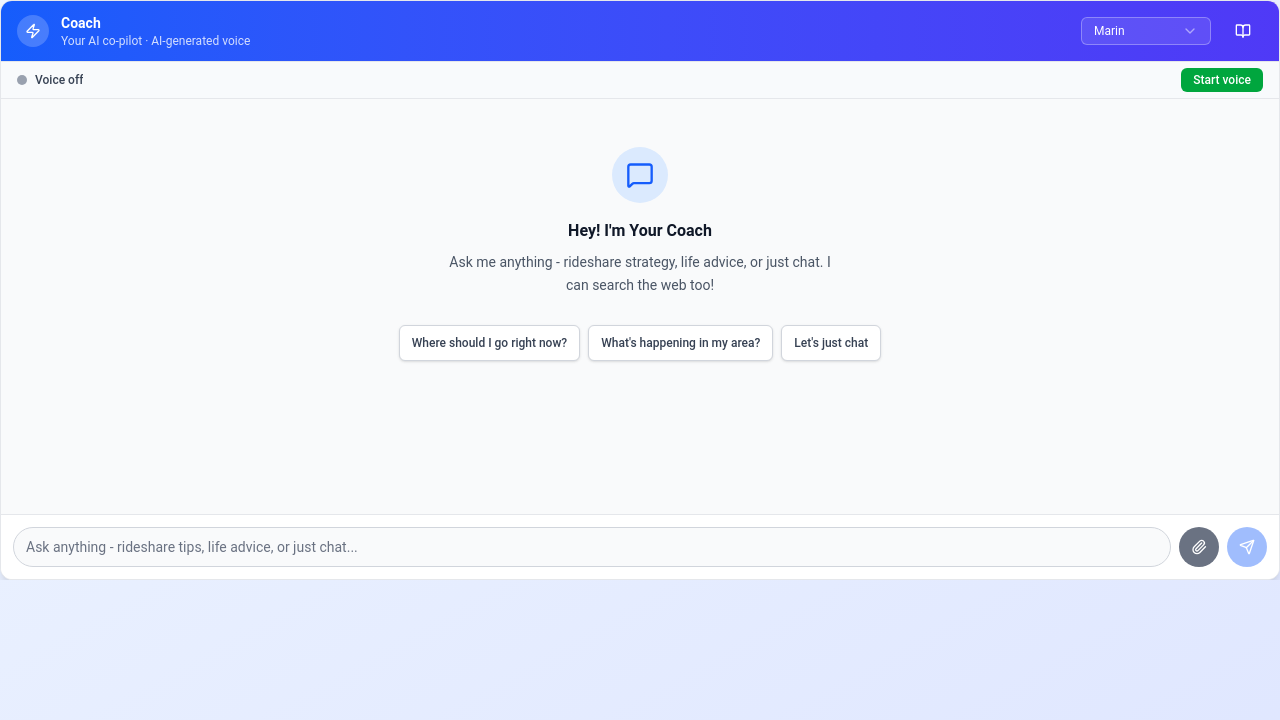
mounted Coach canonical input and confirmed output › typed settings wait for completion and notify once even when the final event repeats
This screenshot has width=1280, height=720.
In the field with test id "input-chat-message": (592, 547) [13, 527, 1171, 567], type "Raise my minimum score to 70"
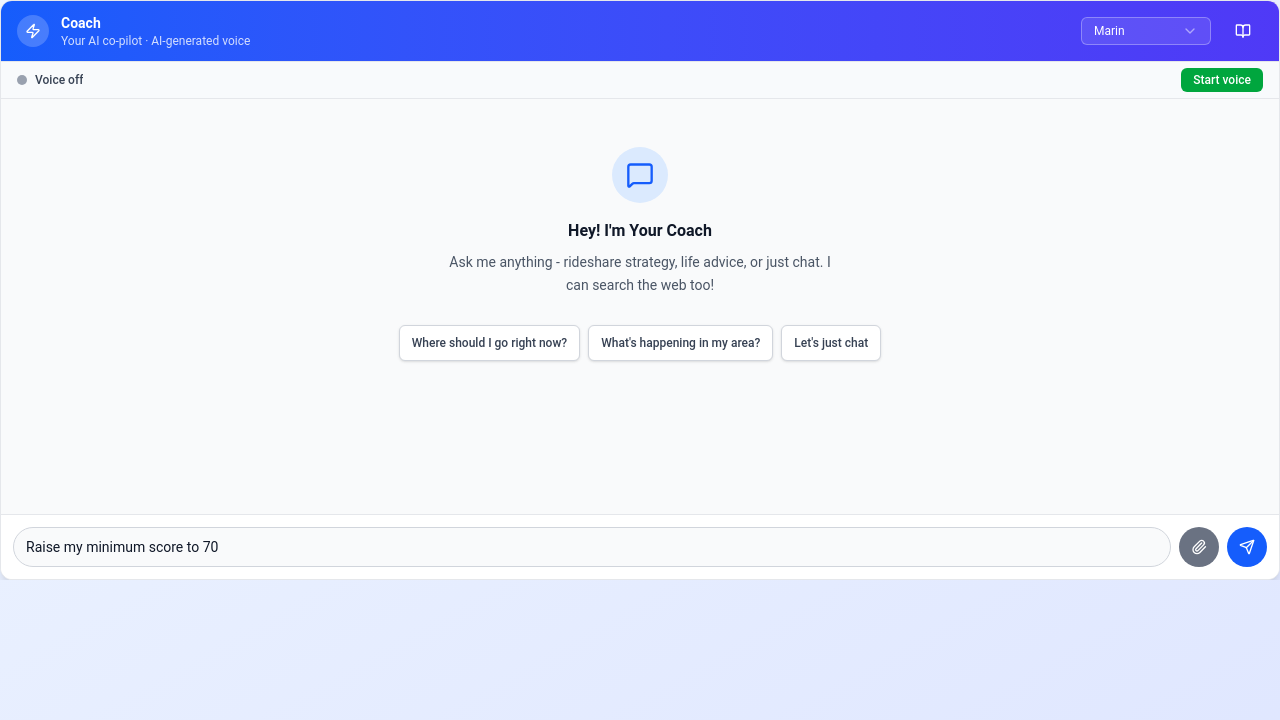
Click the button with test id "button-send-message": (1247, 547) [1227, 527, 1267, 567]
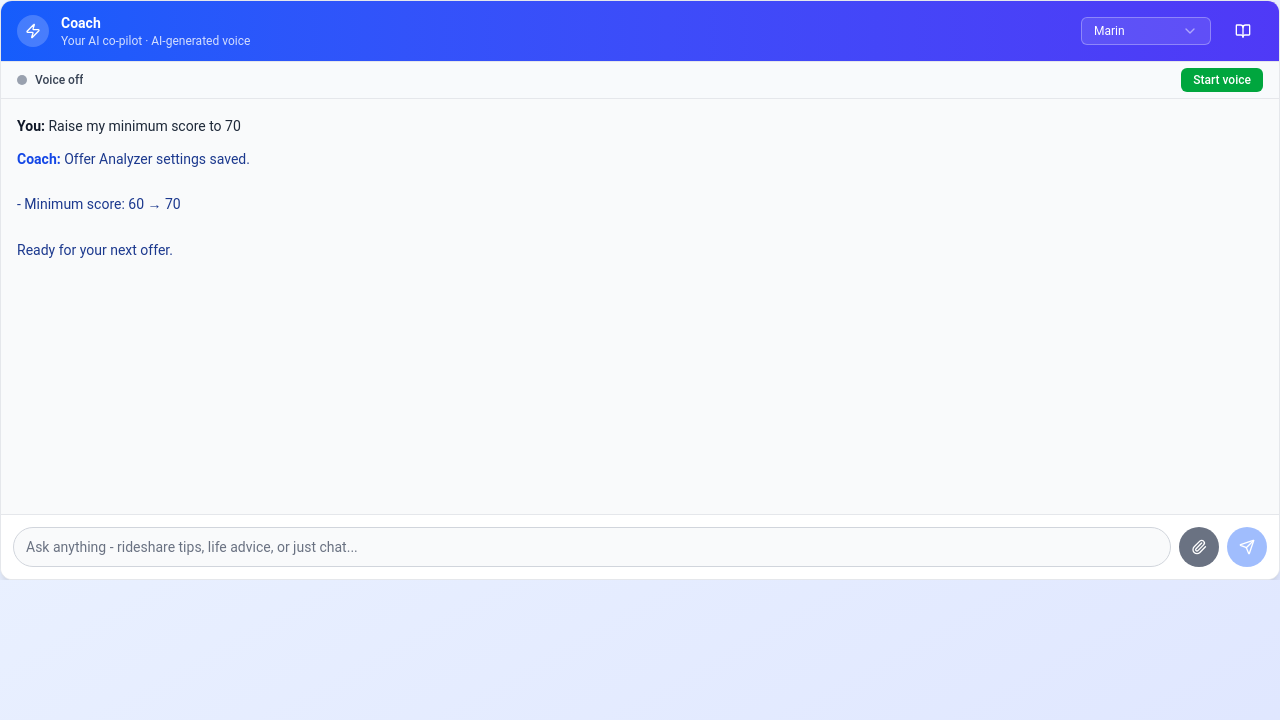
Now the element with test id "message-assistant-1" shows "Minimum score: 60 → 70", box [17, 151, 250, 258]
